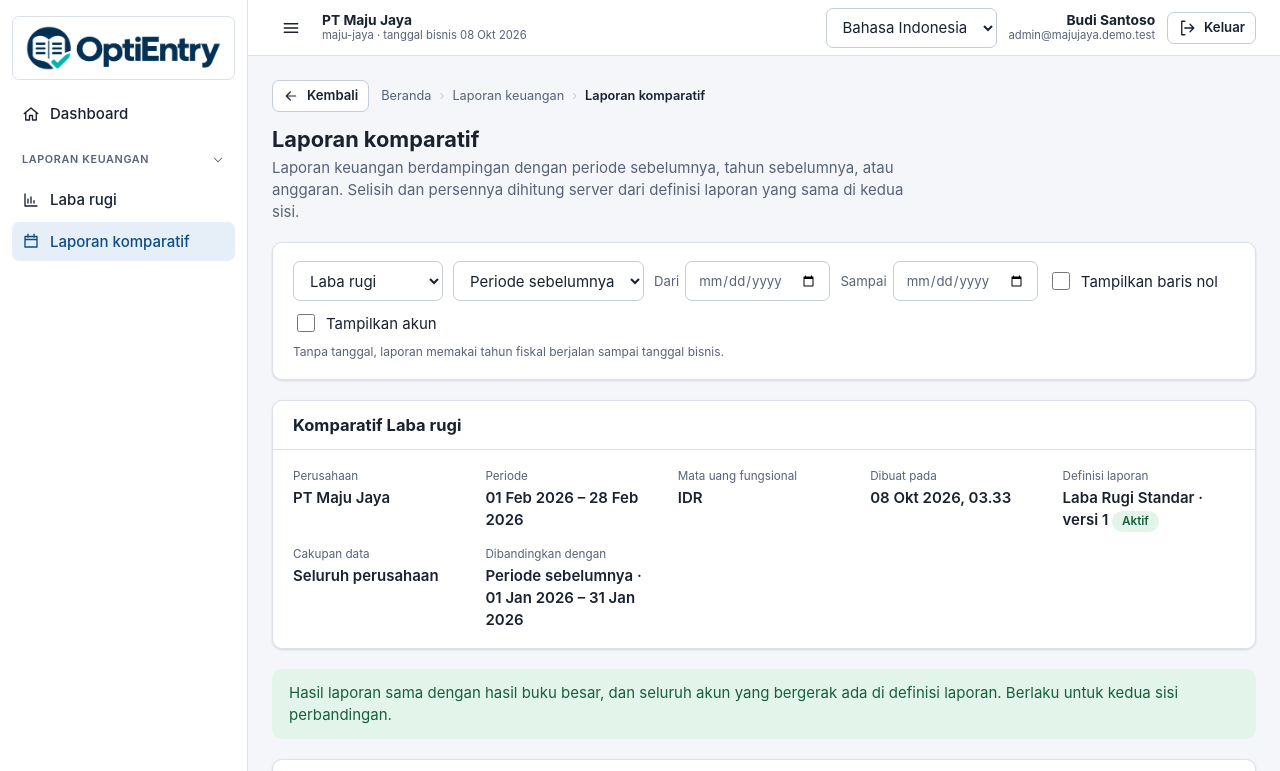
comparative report › shows the refusal for a range that is not aligned with the budget periods
Step 1. Select "Anggaran" in the dropdown named "Pembanding" → [548, 281], box [453, 261, 644, 301]
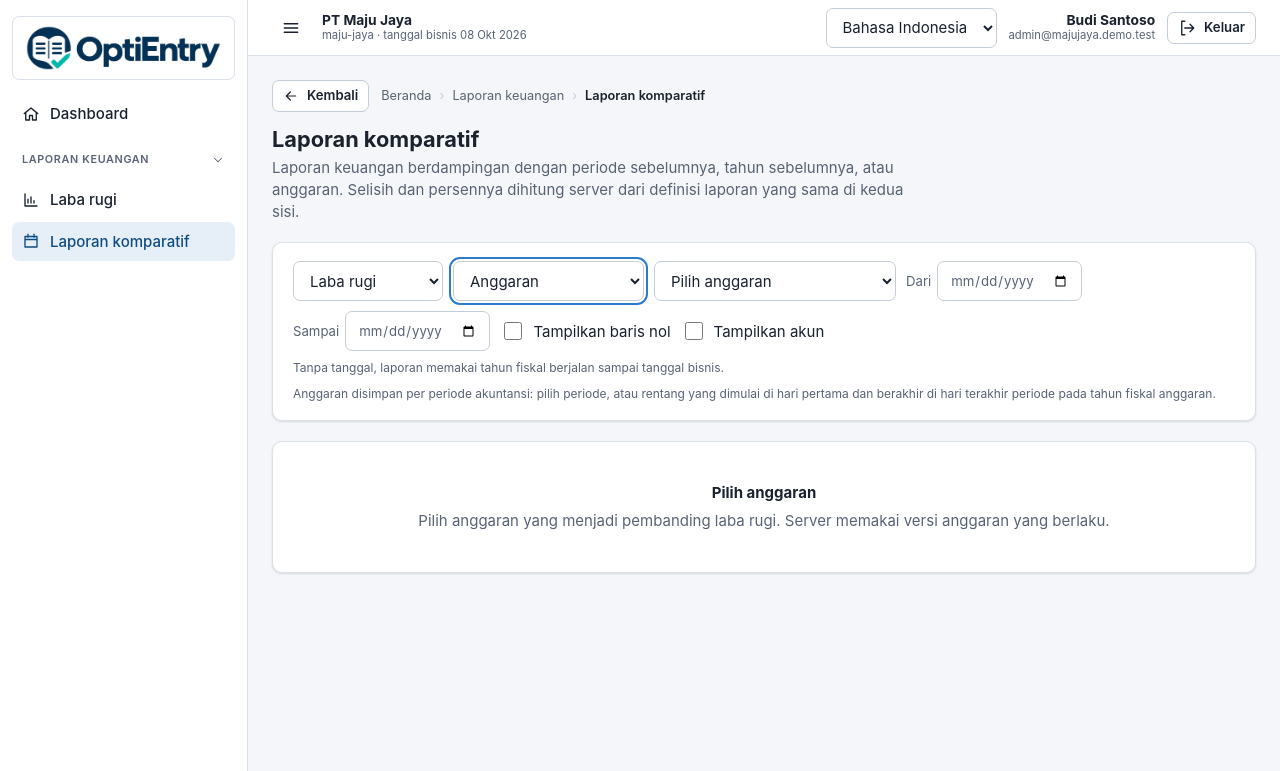
Step 2. Select "BGT-2026 · Anggaran 2026" in the dropdown named "Anggaran" → [775, 281], box [654, 261, 896, 301]
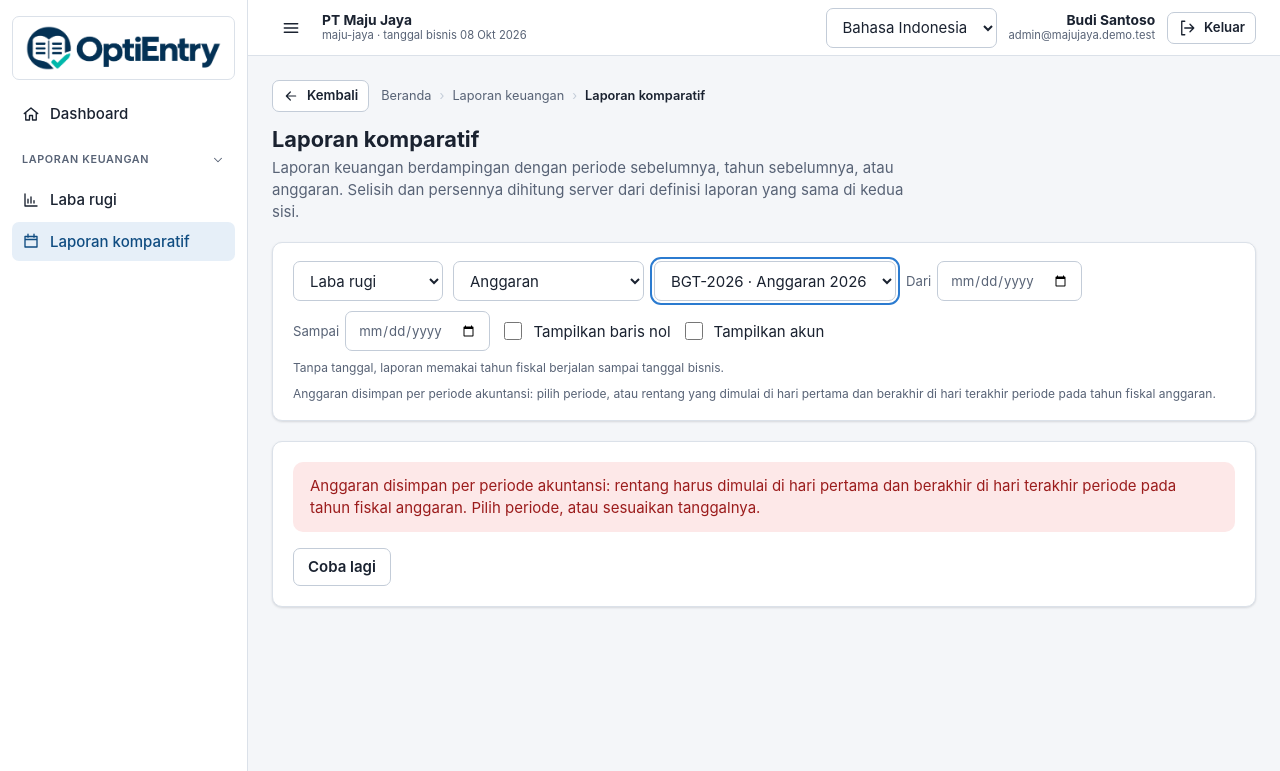
Check: the text "Anggaran disimpan per periode akuntansi: rentang harus dimulai di hari pertama" is shown, box [310, 476, 1176, 517]
